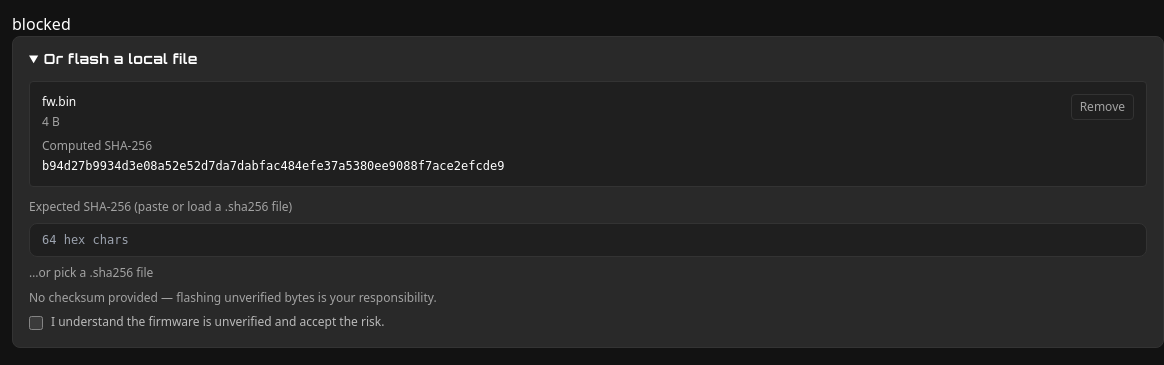
LocalFirmwareInput › resets confirmation when the firmware is removed
Click the checkbox: (36, 323) [29,316,43,330]
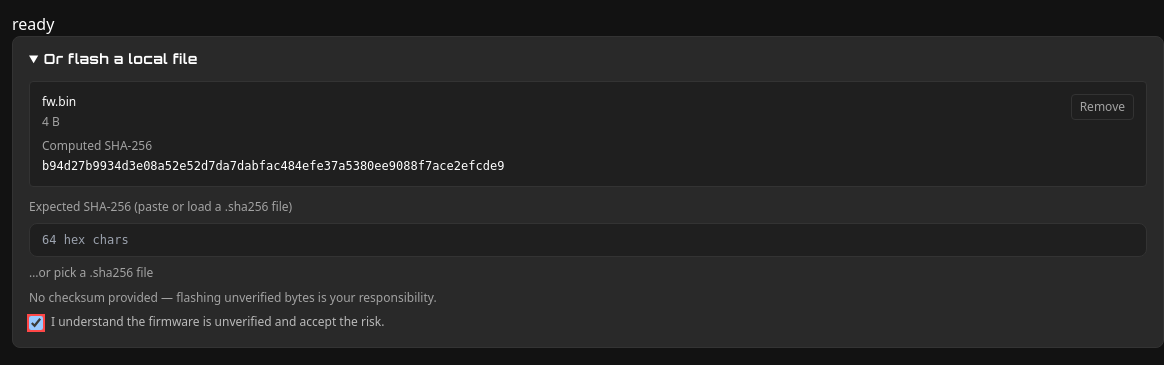
Now the text with test id "ready" reads "ready", box [12,13,54,35]
Click the button "Remove": (1102, 107) [1071,94,1134,120]
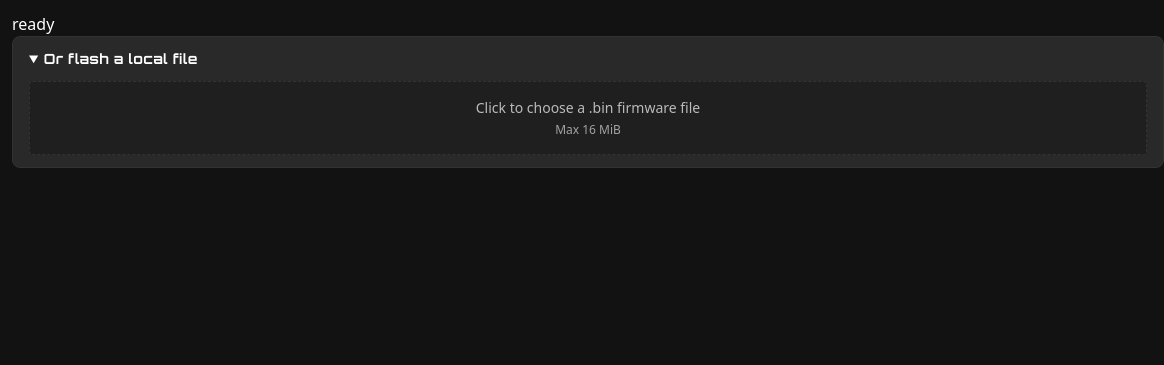
Now the text with test id "ready" reads "ready", box [12,13,54,35]
Now the checkbox is gone
